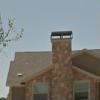Chimney: (44, 23, 74, 71)
